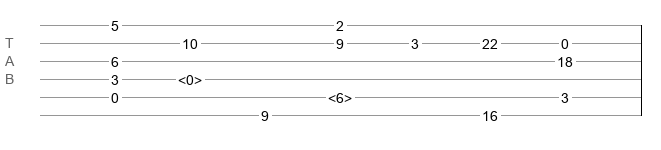0: (111, 90, 119, 100), (561, 36, 569, 46)
10: (182, 36, 198, 46)
16: (482, 108, 498, 118)
18: (557, 54, 573, 64)
2: (336, 18, 344, 28)
22: (482, 36, 498, 46)
3: (111, 72, 119, 82), (411, 36, 419, 46), (561, 90, 569, 100)
5: (111, 18, 119, 28)
6: (111, 54, 119, 64)
9: (261, 108, 269, 118), (336, 36, 344, 46)
harmonic: (178, 72, 202, 82), (328, 90, 352, 100)
